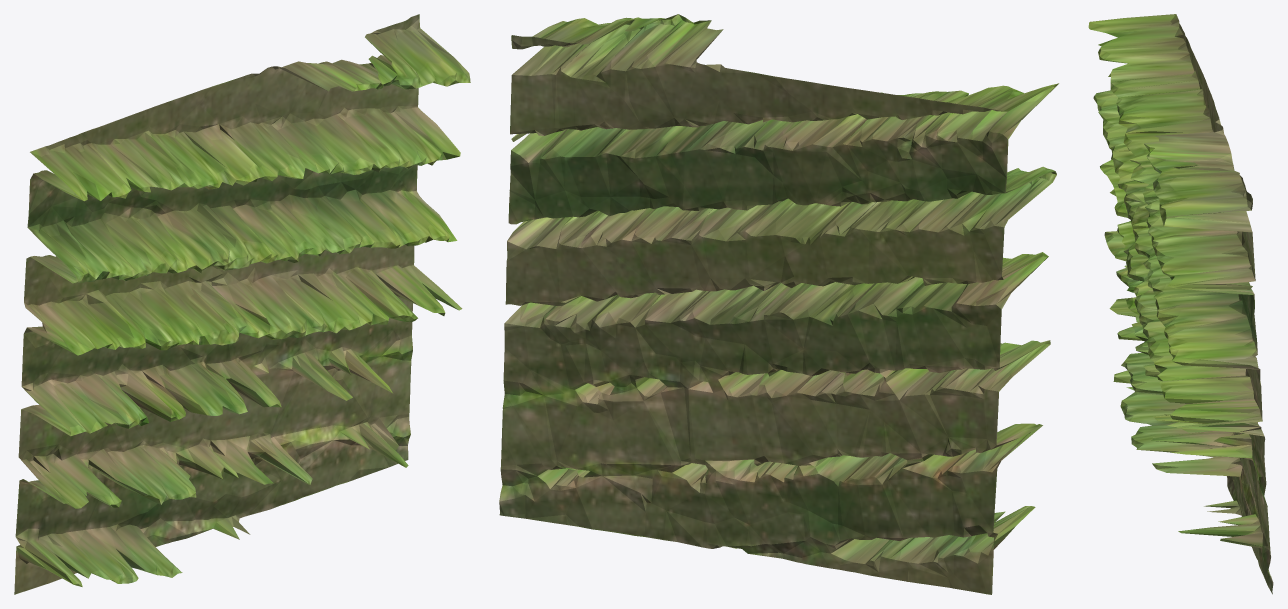
The model's file is map_90_0.obj.
3 views of the same model, side by side, from view 1: azimuth 30°, elevation 25°; view 2: azimuth 150°, elevation 25°; view 3: azimuth 270°, elevation 25° (orthographic). The views are drawn at different scales.
Visible parts, largest first — view 1: grp1; view 2: grp1; view 3: grp1.
Part boxes in pixels (x1,y1,x2,y2): grp1: (14, 14, 470, 594); grp1: (499, 14, 1058, 594); grp1: (1088, 14, 1273, 594).
Bounding box in the file's own units: 10 × 10 × 4.23.
Materials: 1 (1 with a texture image).
